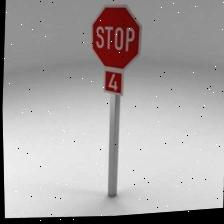Stop: (89, 4, 144, 74)
